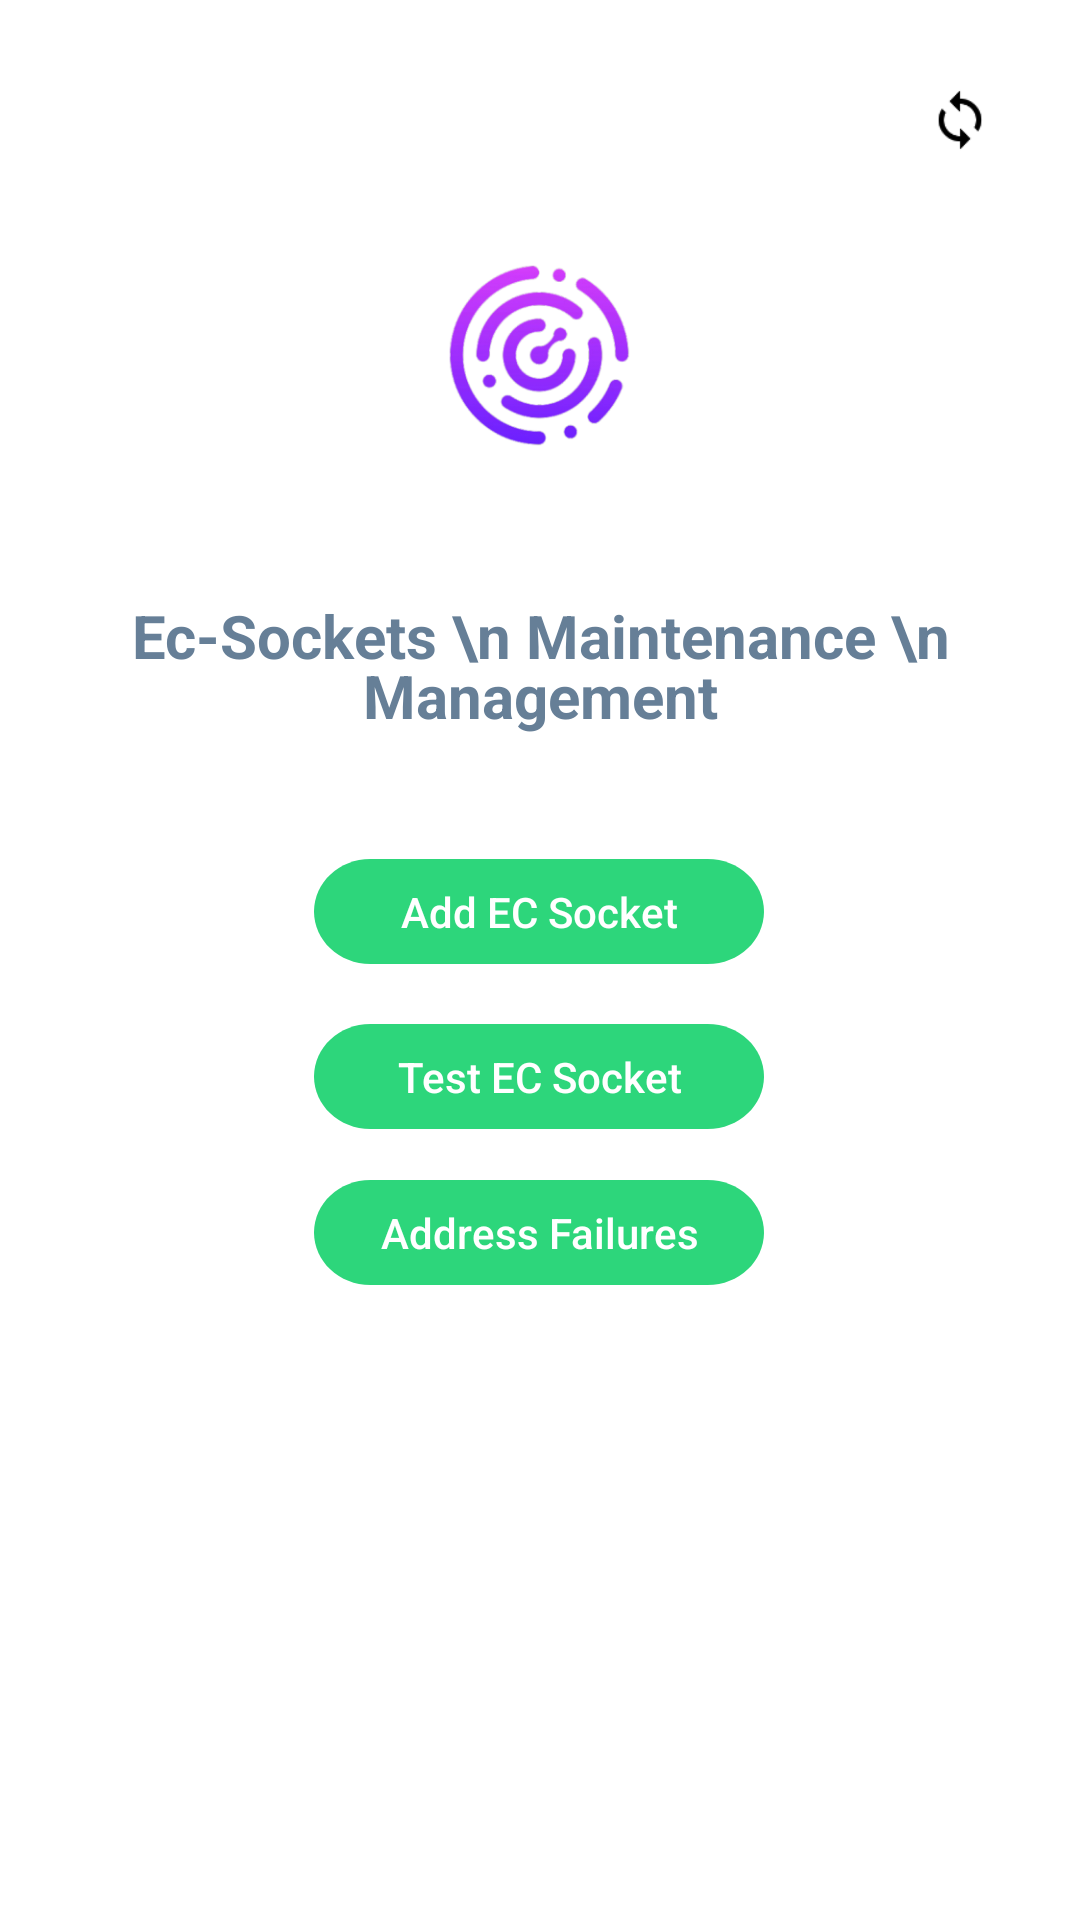

Screen size 1080w x 1920h. Icon name, then its box in pixels as [x1,y1,x2,y2]:
sync: [938,91,982,149]
